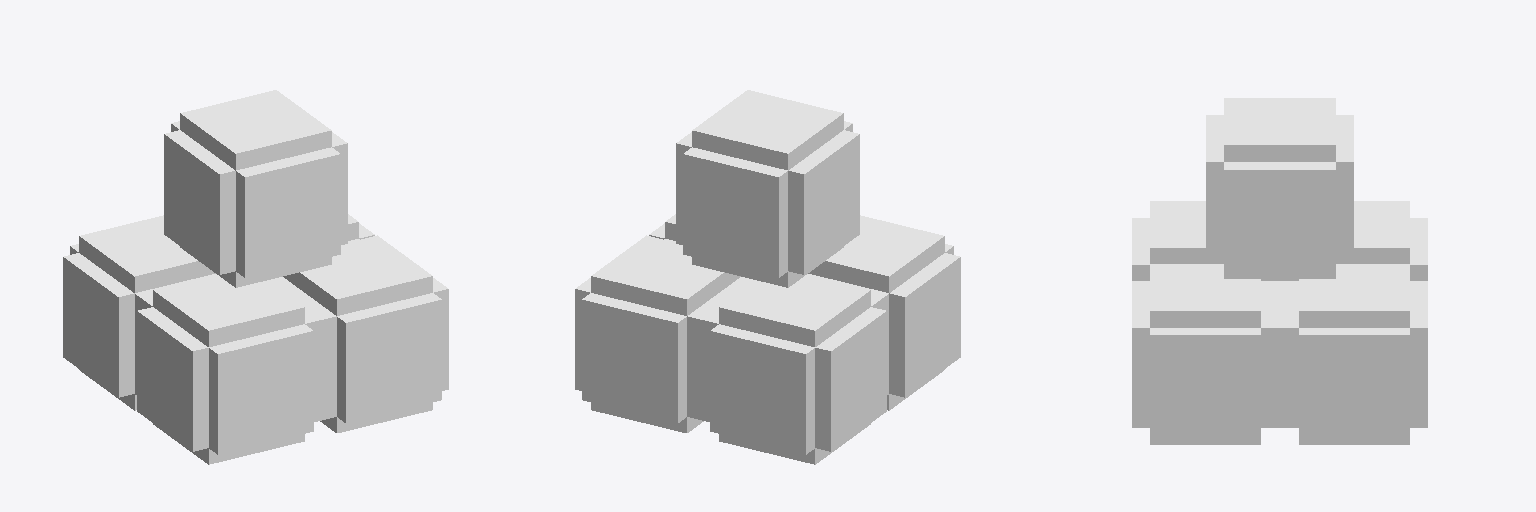
The model's file is CoalPile01.obj.
3 views of the same model, side by side, from view 1: azimuth 30°, elevation 25°; view 2: azimuth 150°, elevation 25°; view 3: azimuth 270°, elevation 25° (orthographic).
Visible parts, largest first — view 1: object 1; view 2: object 1; view 3: object 1.
Boxes of the visible parts, x1=… form: object 1: x1=63, y1=90, x2=448, y2=464; object 1: x1=575, y1=90, x2=960, y2=464; object 1: x1=1132, y1=98, x2=1427, y2=444.
Size of the model in its own units: 1.6 by 1.6 by 1.6.